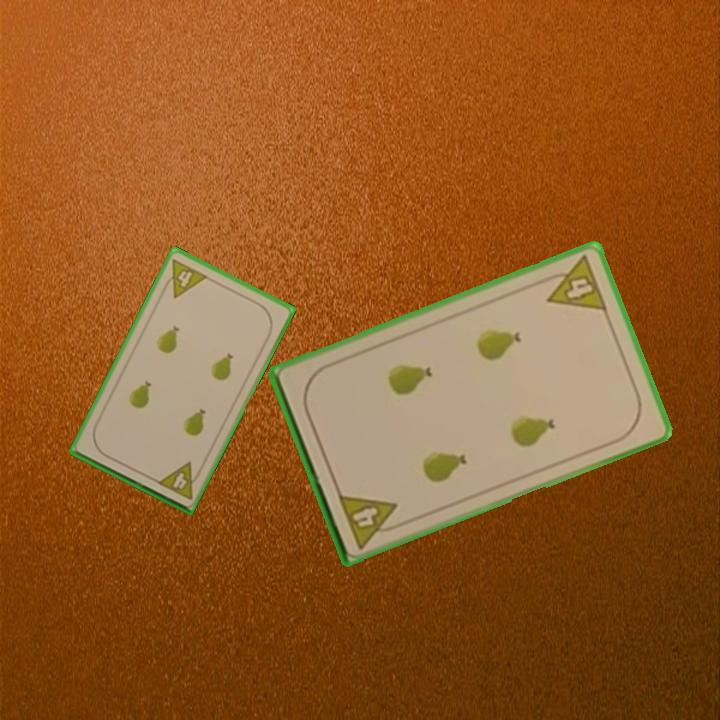4p: (536, 252, 610, 314), (335, 489, 406, 552), (158, 255, 211, 301), (153, 458, 205, 502)
